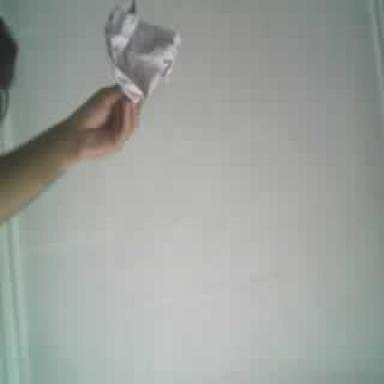paper: (104, 0, 180, 101)
